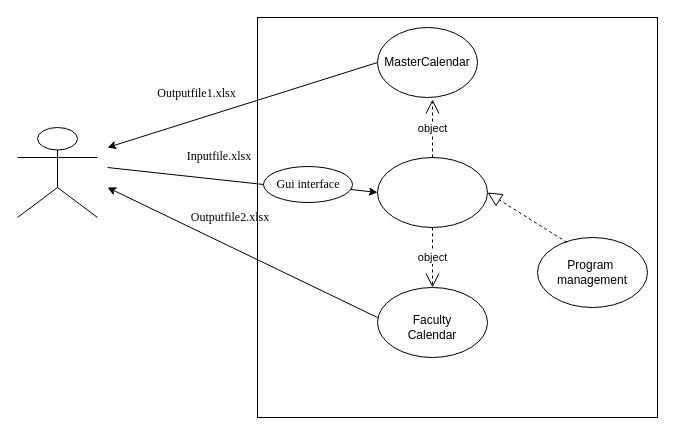
This 675x435 diagram has some shape labels left out. The shapes that lost their labels are listed below. From the top down, each one's box as (x1, y1, x2, y2) in pixels, then its label:
(16, 126, 98, 218): user
(376, 156, 488, 228): Extract
